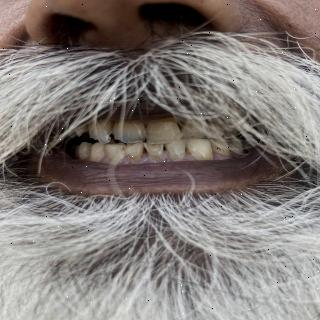plaque: (99, 147, 123, 165), (146, 148, 162, 162)
stains: (124, 144, 146, 164), (213, 143, 229, 156)
